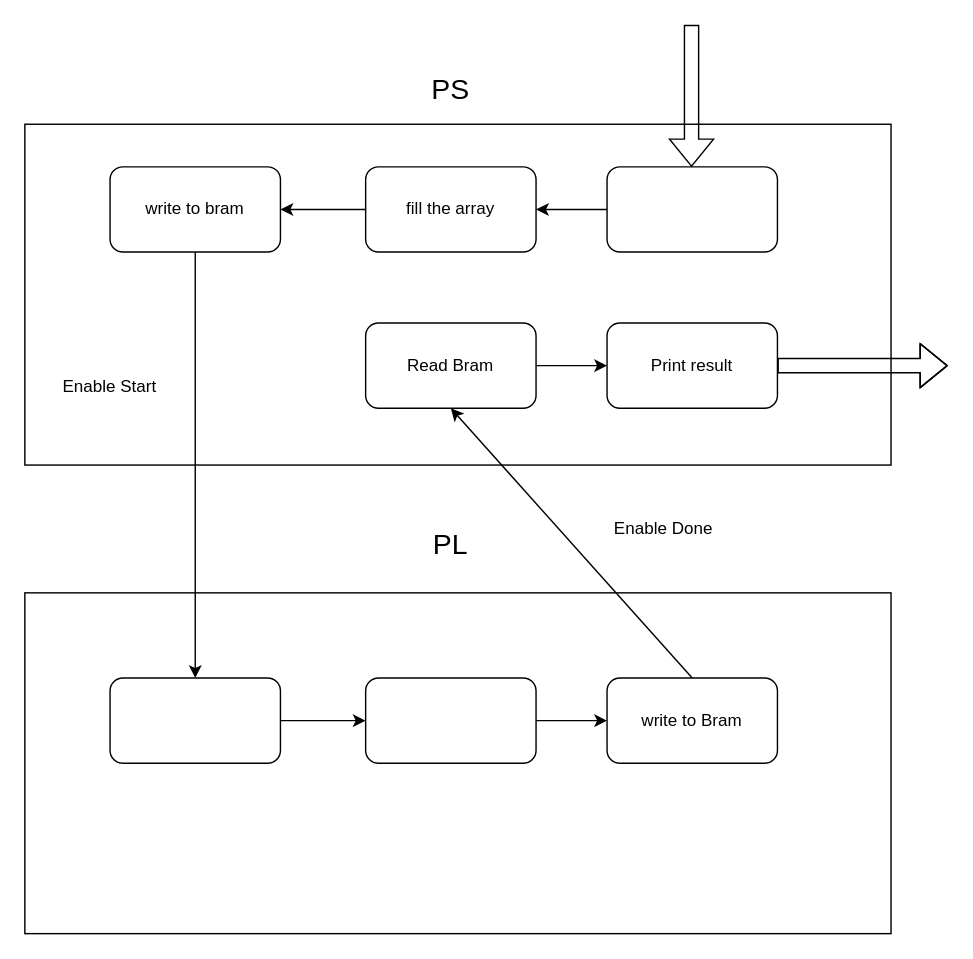
The diagram is 973 pixels wide and 959 high, and some of its shapes have lost their labels. Each missing label, with the centre of its shape:
Convolution: point 450,720
create array: point 691,208
Read from bram: point 194,720
